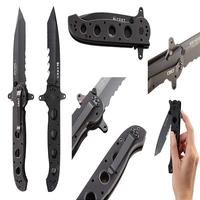knife: (34, 5, 69, 187), (62, 70, 133, 153), (7, 5, 37, 186), (144, 20, 200, 96), (153, 92, 184, 176)
